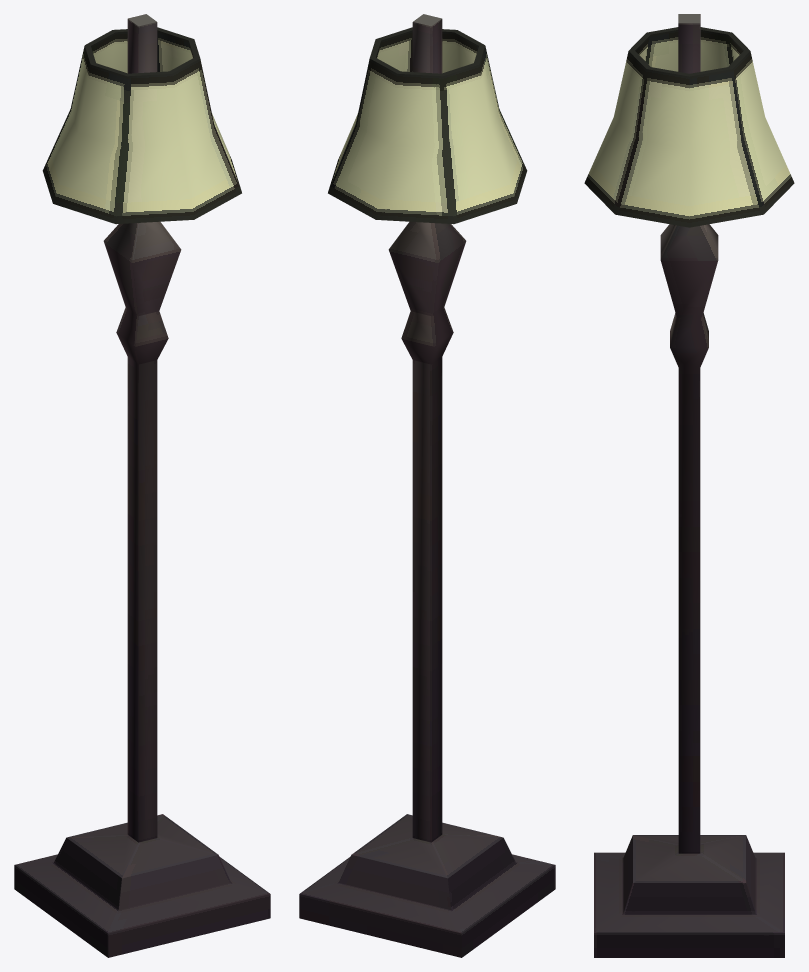
The model's file is item_backrooms_lamp.glb.
3 views of the same model, side by side, from view 1: azimuth 30°, elevation 25°; view 2: azimuth 150°, elevation 25°; view 3: azimuth 270°, elevation 25° (orthographic).
Visible parts, largest first — view 1: backrooms_lamp; view 2: backrooms_lamp; view 3: backrooms_lamp.
Part boxes in pixels (x1,y1,x2,y2): backrooms_lamp: (14, 14, 270, 957); backrooms_lamp: (299, 14, 555, 957); backrooms_lamp: (584, 14, 794, 957).
Size of the model in its own units: 0.4003 by 1.89 by 0.4003.
Materials: 1 (1 with a texture image).
